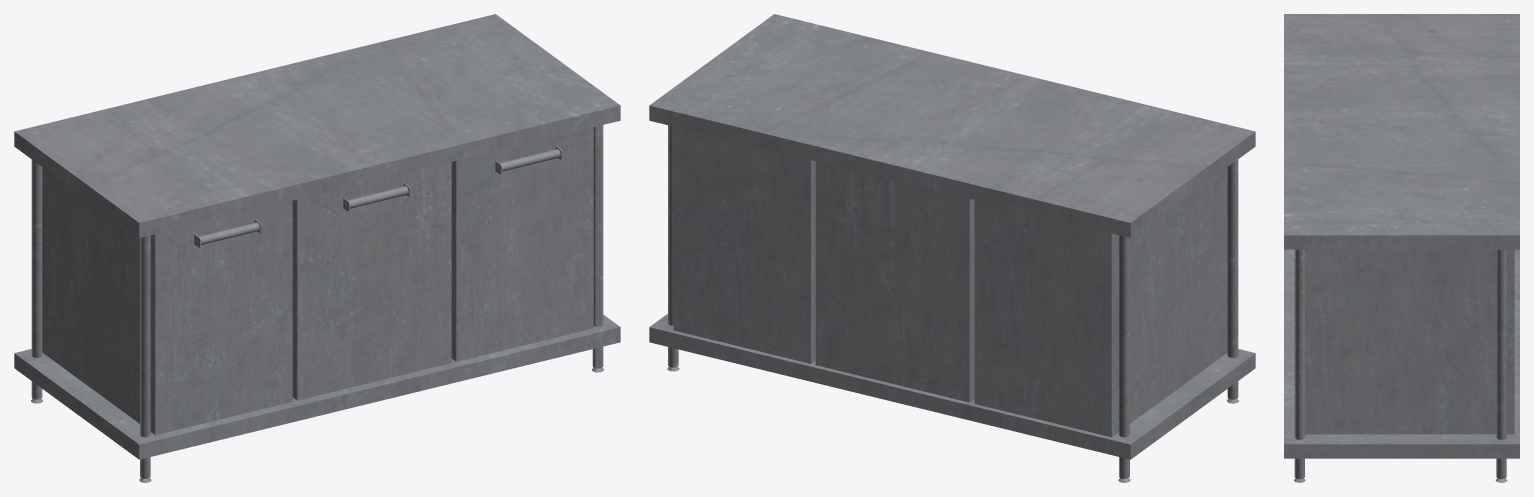
Rendered from BJW_KitchenBench_w-draws_LARGE.fbx.
3 renders of one model, left to right at view 1: azimuth 30°, elevation 25°; view 2: azimuth 150°, elevation 25°; view 3: azimuth 270°, elevation 25°, orthographic. The views are drawn at different scales.
Visible parts, largest first — view 1: KitchenBench_w_draws_LARGE; view 2: KitchenBench_w_draws_LARGE; view 3: KitchenBench_w_draws_LARGE.
Part boxes in pixels (left/top/right/bottom): KitchenBench_w_draws_LARGE: left=14, top=14, right=620, bottom=482; KitchenBench_w_draws_LARGE: left=649, top=14, right=1255, bottom=482; KitchenBench_w_draws_LARGE: left=1284, top=14, right=1519, bottom=482.
Size of the model in its own units: 200 by 106 by 90.
